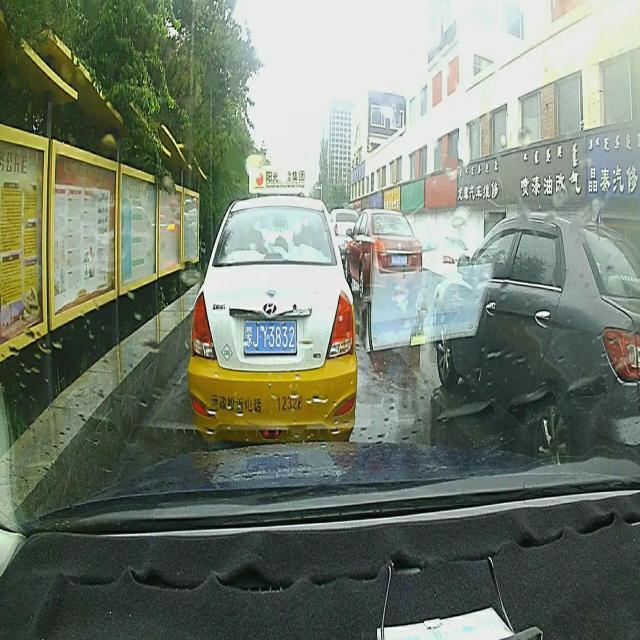car: (435, 216, 640, 462), (186, 168, 357, 442), (342, 208, 422, 298), (328, 204, 364, 256)
